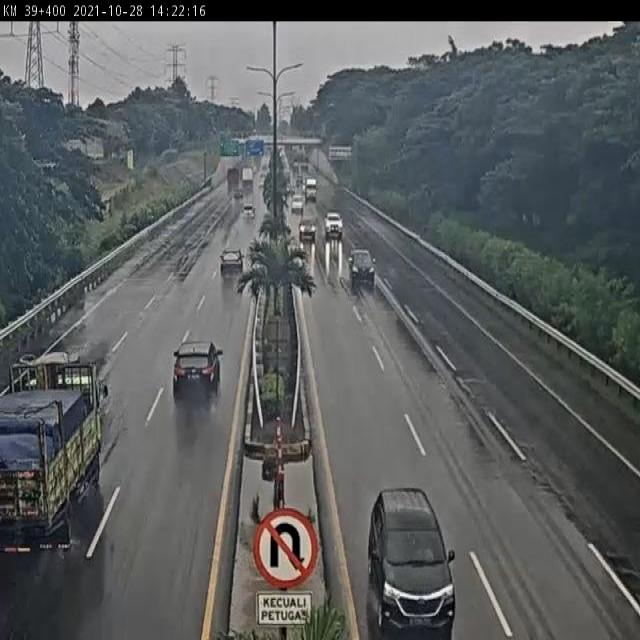Car: (363, 465, 479, 639), (160, 332, 222, 413), (206, 235, 254, 285), (348, 243, 375, 286), (322, 210, 343, 236), (296, 216, 316, 243), (240, 204, 256, 224)
Truck: (0, 347, 128, 558), (221, 169, 243, 190), (240, 163, 256, 190), (305, 176, 321, 202)
